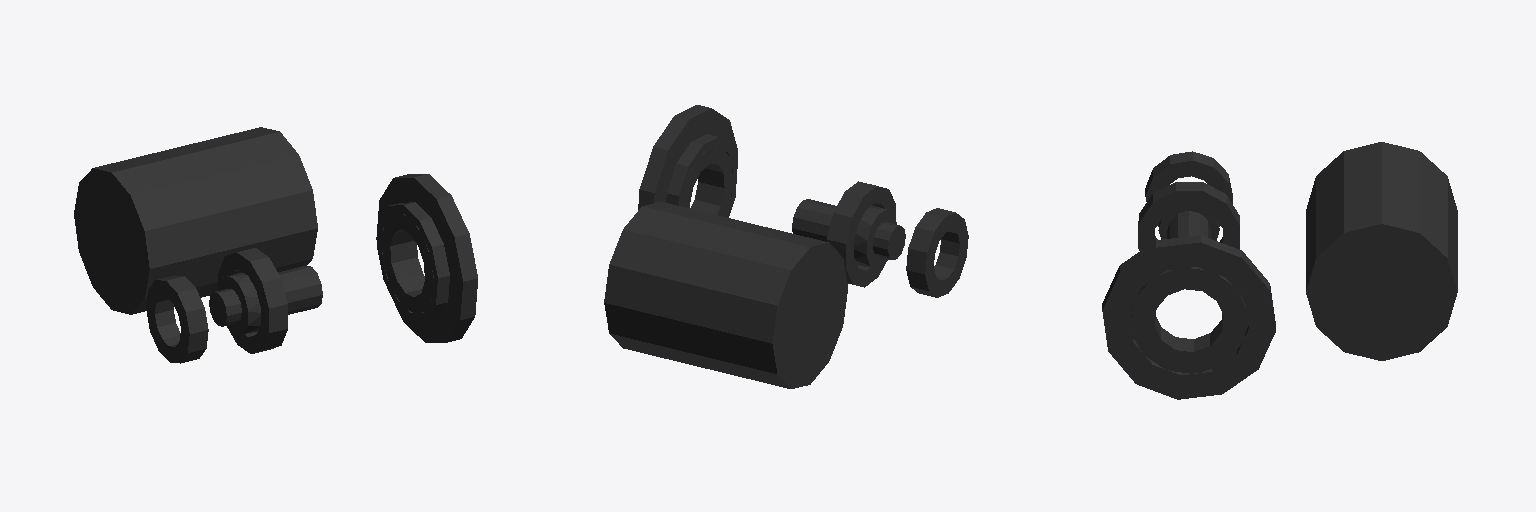
File: Elbow_Bracket_01_1__1_mesh_2.obj
3 views of the same model, side by side, from view 1: azimuth 30°, elevation 25°; view 2: azimuth 150°, elevation 25°; view 3: azimuth 270°, elevation 25° (orthographic).
Bounding box in the file's own units: 0.0352 × 0.0198 × 0.0406.